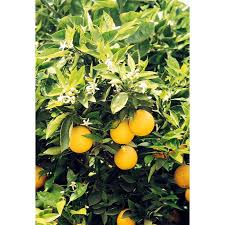orange: (126, 104, 156, 137), (106, 114, 137, 144), (65, 123, 94, 155), (112, 144, 140, 173)
